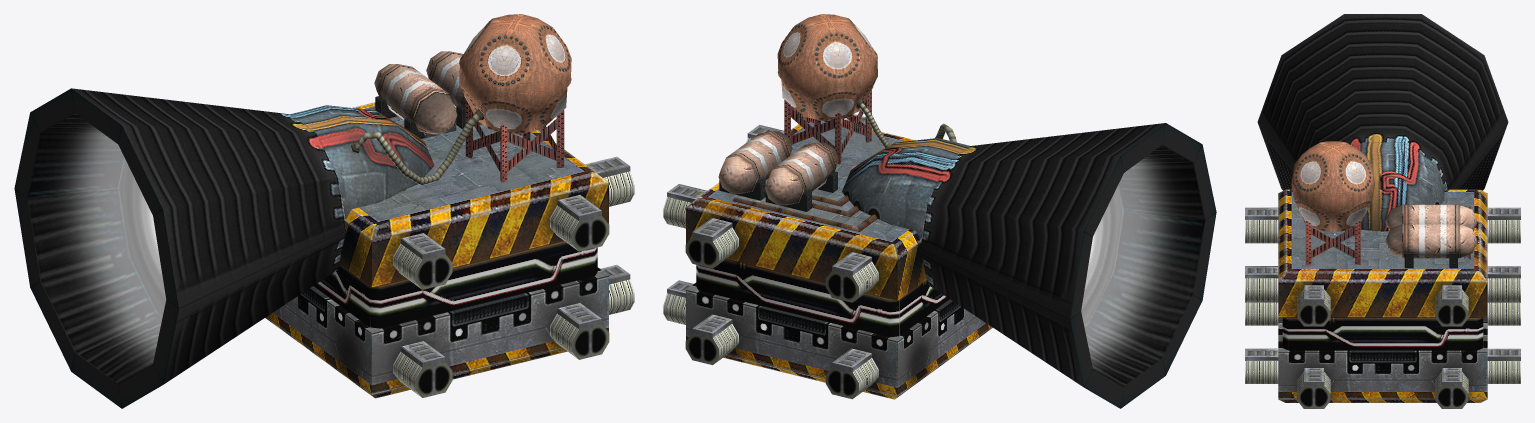
File: Module_Thruster.dae
3 renders of one model, left to right at view 1: azimuth 30°, elevation 25°; view 2: azimuth 150°, elevation 25°; view 3: azimuth 270°, elevation 25°, orthographic. The views are drawn at different scales.
Visible parts, largest first — view 1: Module_Thruster; view 2: Module_Thruster; view 3: Module_Thruster.
Part boxes in pixels (x1,y1,x2,y2): Module_Thruster: [14, 14, 634, 408]; Module_Thruster: [663, 14, 1216, 408]; Module_Thruster: [1245, 14, 1520, 408].
Size of the model in its own units: 3.08 by 1.91 by 2.
